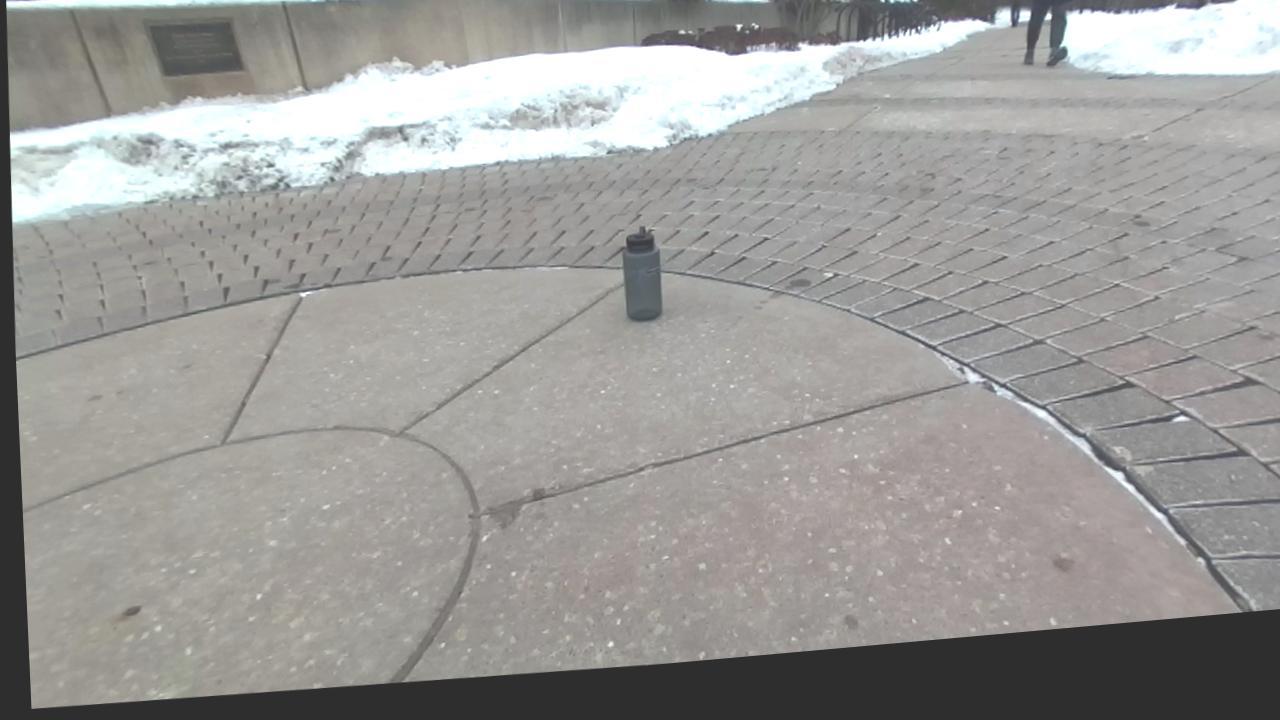bottle: (622, 226, 662, 321)
